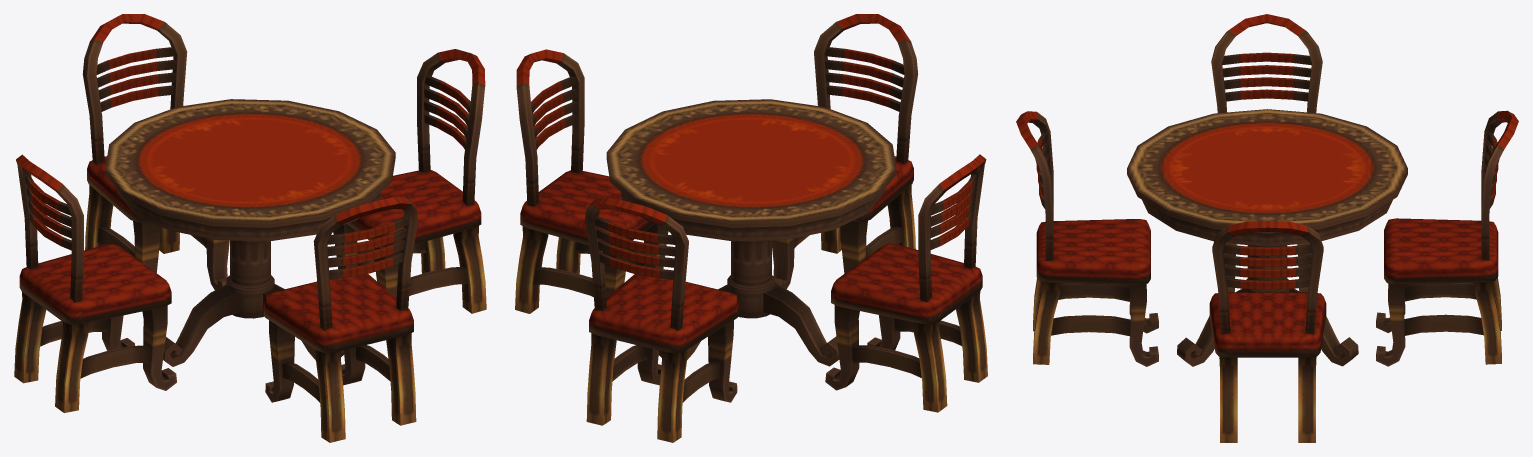
File: Kitchen_Table_03.gltf
3 renders of one model, left to right at view 1: azimuth 30°, elevation 25°; view 2: azimuth 150°, elevation 25°; view 3: azimuth 270°, elevation 25°, orthographic. The views are drawn at different scales.
Visible parts, largest first — view 1: Kitchen_Table_03; view 2: Kitchen_Table_03; view 3: Kitchen_Table_03.
Boxes of the visible parts, bbox=[...] form: Kitchen_Table_03: bbox=[14, 14, 486, 442]; Kitchen_Table_03: bbox=[515, 14, 987, 442]; Kitchen_Table_03: bbox=[1016, 14, 1518, 442].
Bounding box in the file's own units: 81.11 × 40.9 × 81.11.
1 material, 1 textured.
